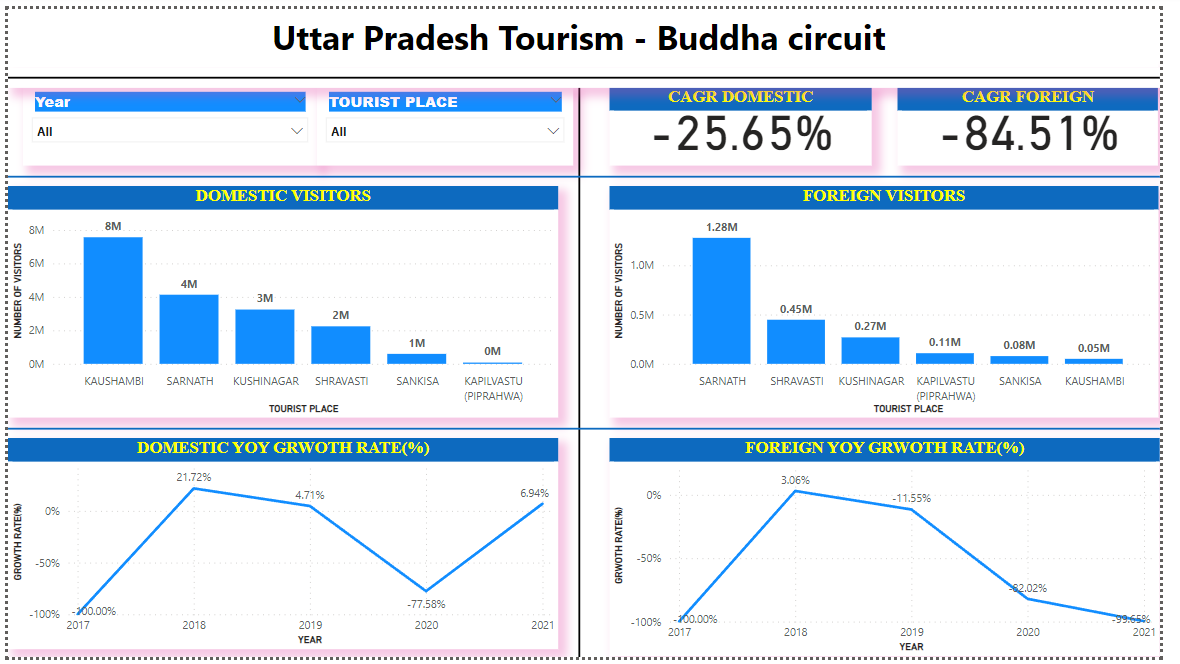

The dashboard page shown, as its layout file describes it:
{"tool":"powerbi","page":{"name":"BHUDDA CIRCUIT","canvas":[1280,720],"ordinal":3},"visuals":[{"type":"card","title":"CAGR FOREIGN","fields":{"Values":["UP BHUDDA CIRCUIT FOREIGN.CAGR FOREIGN BUDDHA"]},"box":[974,0,289.6,98.7],"z":0},{"type":"card","title":"CAGR DOMESTIC","fields":{"Values":["UP BHUDDA CIRCUIT DOMESTIC.CAGR"]},"box":[668.2,0,291.2,98.7],"z":1000},{"type":"clusteredColumnChart","title":"DOMESTIC VISITORS","fields":{"Y":["Sum(UP BHUDDA CIRCUIT DOMESTIC.Value)"],"Category":["UP BHUDDA CIRCUIT DOMESTIC.TOURIST PLACE"]},"box":[0,121.3,611.6,284.8],"z":2000},{"type":"slicer","fields":{"Values":["BHDDHA YEAR.YEAR.Variation.Date Hierarchy.Year"]},"box":[0,1.6,326.8,97.1],"z":3000},{"type":"clusteredColumnChart","title":"FOREIGN VISITORS","fields":{"Category":["UP BHUDDA CIRCUIT FOREIGN.TOURIST PLACE"],"Y":["Sum(UP BHUDDA CIRCUIT FOREIGN.Value)"]},"box":[653.7,121.3,610,284.8],"z":4000},{"type":"slicer","fields":{"Values":["BHDDHA TOURIST PLACE.TOURIST PLACE"]},"box":[326.8,0,284.8,98.7],"z":5000},{"type":"lineChart","title":"DOMESTIC YOY GRWOTH RATE(%)","fields":{"Category":["UP BHUDDA CIRCUIT DOMESTIC.YEAR"],"Y":["UP BHUDDA CIRCUIT DOMESTIC.YOY GRWOTH BUDDHA CIRCUIT"]},"box":[0,443.3,611.6,268.6],"z":6000},{"type":"lineChart","title":"FOREIGN YOY GRWOTH RATE(%)","fields":{"Y":["ALL MEASURES.YOY BUDHA FOREIGN"],"Category":["UP BHUDDA CIRCUIT FOREIGN.YEAR"]},"box":[668.2,443.3,611.6,276.7],"z":7000},{"type":"shape","box":[627.8,0,12.9,720],"z":8000},{"type":"shape","box":[0,98.7,1279.8,22.7],"z":9000},{"type":"shape","box":[0,406.1,1279.8,22.7],"z":10000}]}

Visuals, with their boxes in screenshot pixels (x1, y1, x2, y2), scaled from the page's 1280x720 canvas onto the 1180x664 screenshot:
"CAGR FOREIGN" card: <region>898, 0, 1165, 91</region>
"CAGR DOMESTIC" card: <region>616, 0, 884, 91</region>
"DOMESTIC VISITORS" clusteredColumnChart: <region>0, 112, 564, 375</region>
slicer - BHDDHA YEAR.YEAR.Variation.Date Hierarchy.Year: <region>0, 1, 301, 91</region>
"FOREIGN VISITORS" clusteredColumnChart: <region>603, 112, 1165, 375</region>
slicer - BHDDHA TOURIST PLACE.TOURIST PLACE: <region>301, 0, 564, 91</region>
"DOMESTIC YOY GRWOTH RATE(%)" lineChart: <region>0, 409, 564, 657</region>
"FOREIGN YOY GRWOTH RATE(%)" lineChart: <region>616, 409, 1179, 663</region>
shape: <region>579, 0, 591, 663</region>
shape: <region>0, 91, 1179, 112</region>
shape: <region>0, 375, 1179, 395</region>
